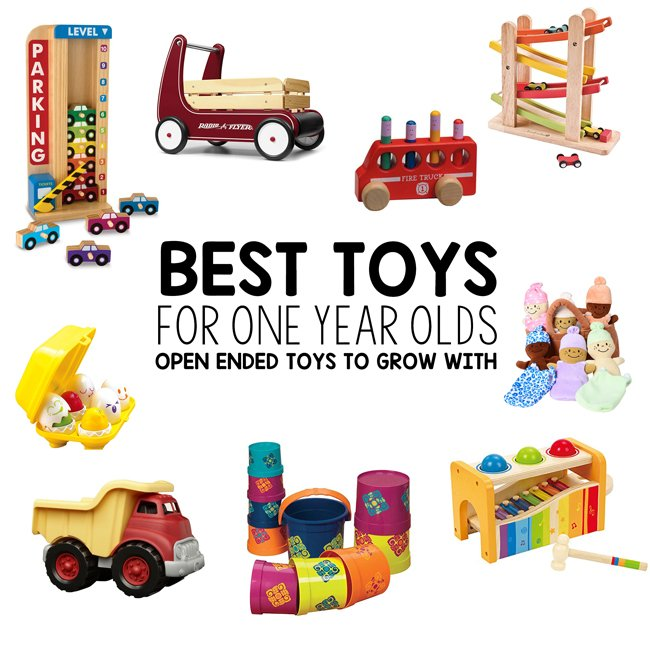toy: (350, 103, 492, 220)
